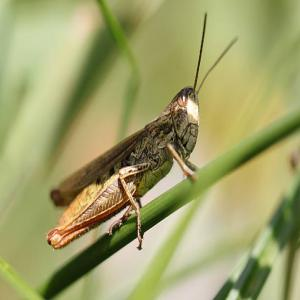locust: (39, 51, 233, 259)
